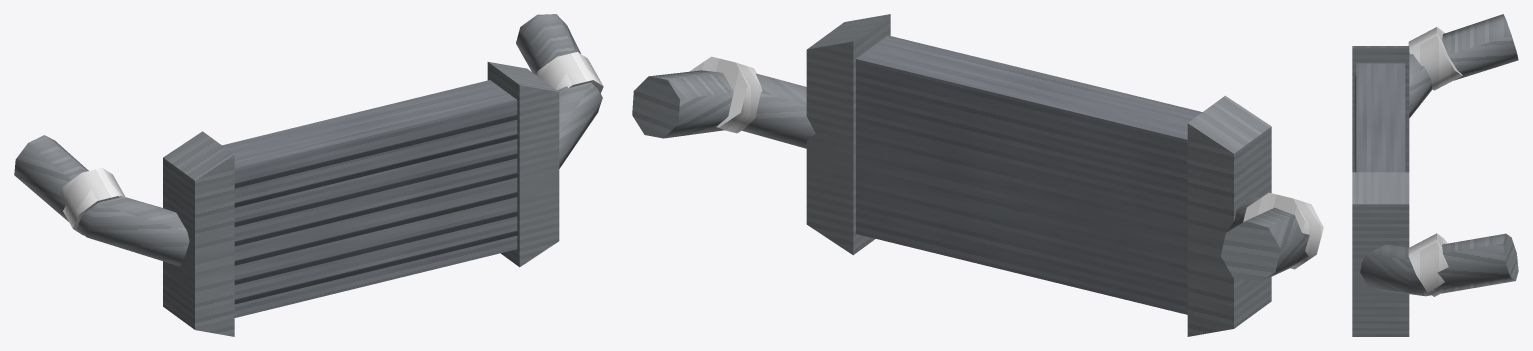
Rendered from intercooler_n1.glb.
3 renders of one model, left to right at view 1: azimuth 30°, elevation 25°; view 2: azimuth 150°, elevation 25°; view 3: azimuth 270°, elevation 25°, orthographic. The views are drawn at different scales.
Visible parts, largest first — view 1: intercooler_n1; view 2: intercooler_n1; view 3: intercooler_n1.
Part boxes in pixels (x1=…): intercooler_n1: x1=14, y1=14, x2=603, y2=336; intercooler_n1: x1=632, y1=14, x2=1323, y2=336; intercooler_n1: x1=1352, y1=14, x2=1518, y2=336.
Size of the model in its own units: 0.6963 by 0.22 by 0.2043.
Materials: 2 (2 with a texture image).
